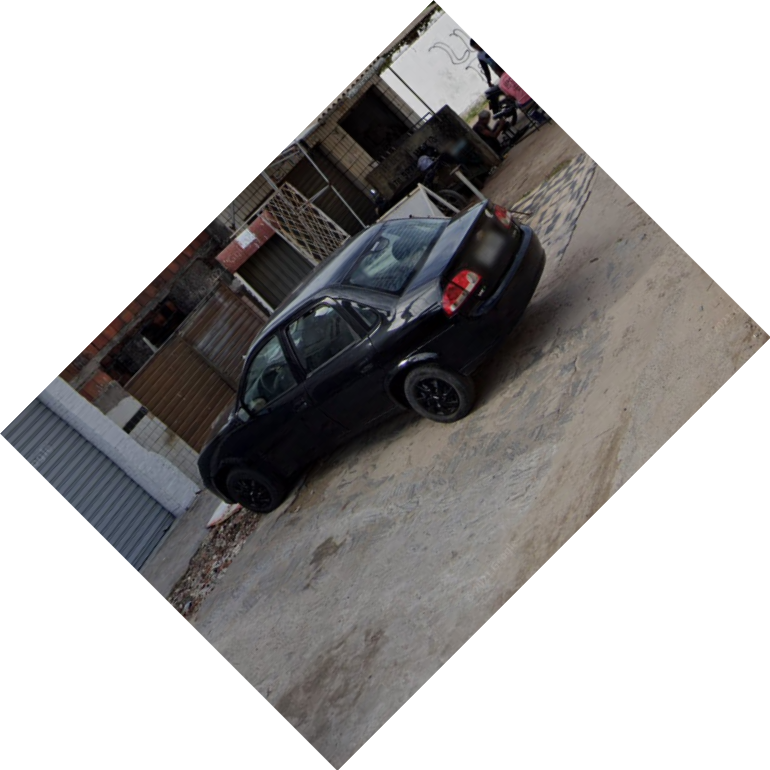car: (196, 198, 547, 515)
